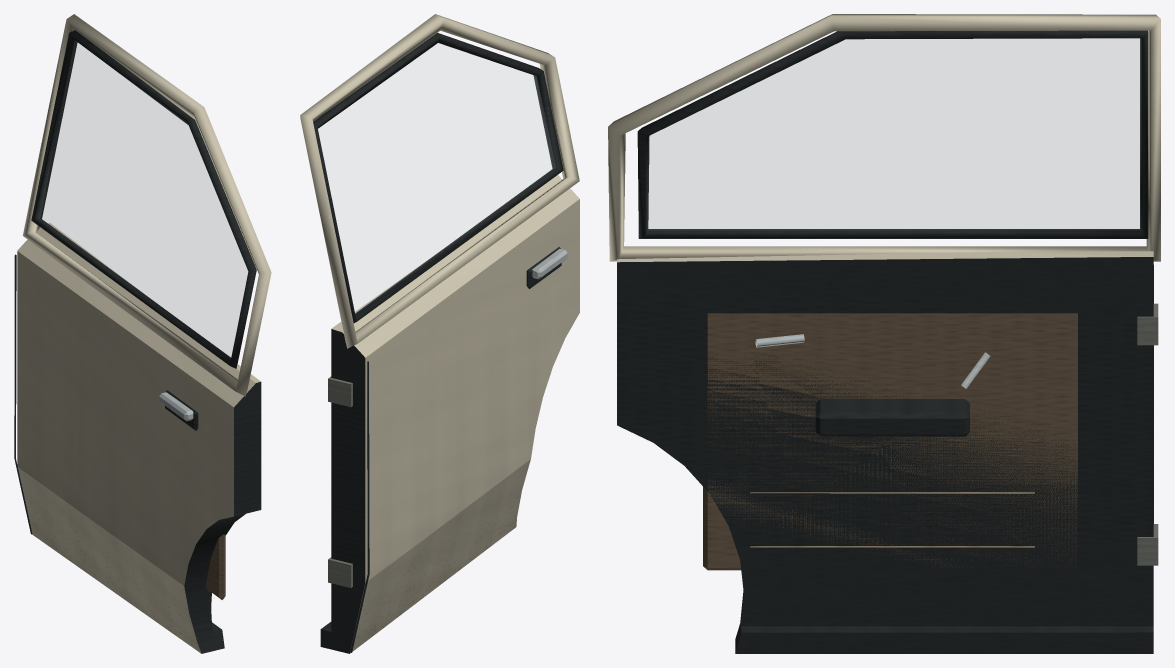
File: zastava_101_door_rl.glb
3 renders of one model, left to right at view 1: azimuth 30°, elevation 25°; view 2: azimuth 150°, elevation 25°; view 3: azimuth 270°, elevation 25°, orthographic. The views are drawn at different scales.
Parts seen in each view (by area): view 1: zastava_101_door_rl; view 2: zastava_101_door_rl; view 3: zastava_101_door_rl.
Part boxes in pixels (<box>): zastava_101_door_rl: <box>14,14,271,653</box>; zastava_101_door_rl: <box>300,14,579,653</box>; zastava_101_door_rl: <box>608,14,1160,653</box>.
Size of the model in its own units: 0.1892 by 1.2 by 0.9321.
Materials: 4 (3 with a texture image).
